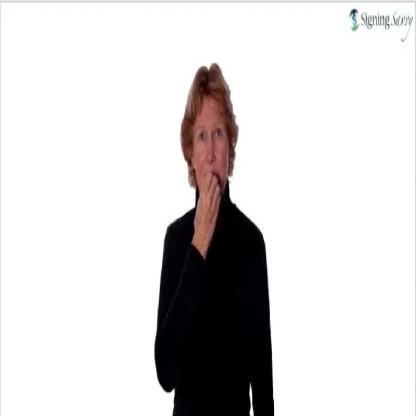Food: (183, 58, 240, 240)
